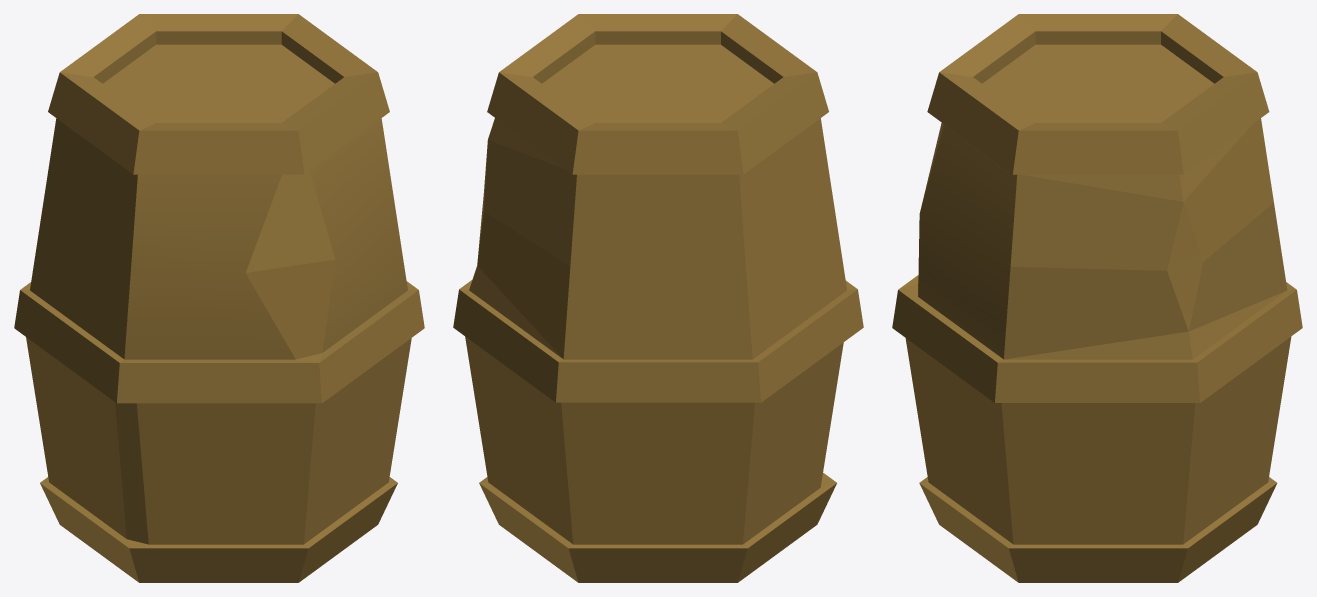
File: barrel.fbx
3 renders of one model, left to right at view 1: azimuth 30°, elevation 25°; view 2: azimuth 150°, elevation 25°; view 3: azimuth 270°, elevation 25°, orthographic.
Parts seen in each view (by area): view 1: misc012; view 2: misc012; view 3: misc012.
Part boxes in pixels (x1,y1,x2,y2): misc012: [14, 14, 424, 582]; misc012: [453, 14, 863, 582]; misc012: [892, 14, 1302, 582].
Bounding box in the file's own units: 8.44 × 11.84 × 9.74.
